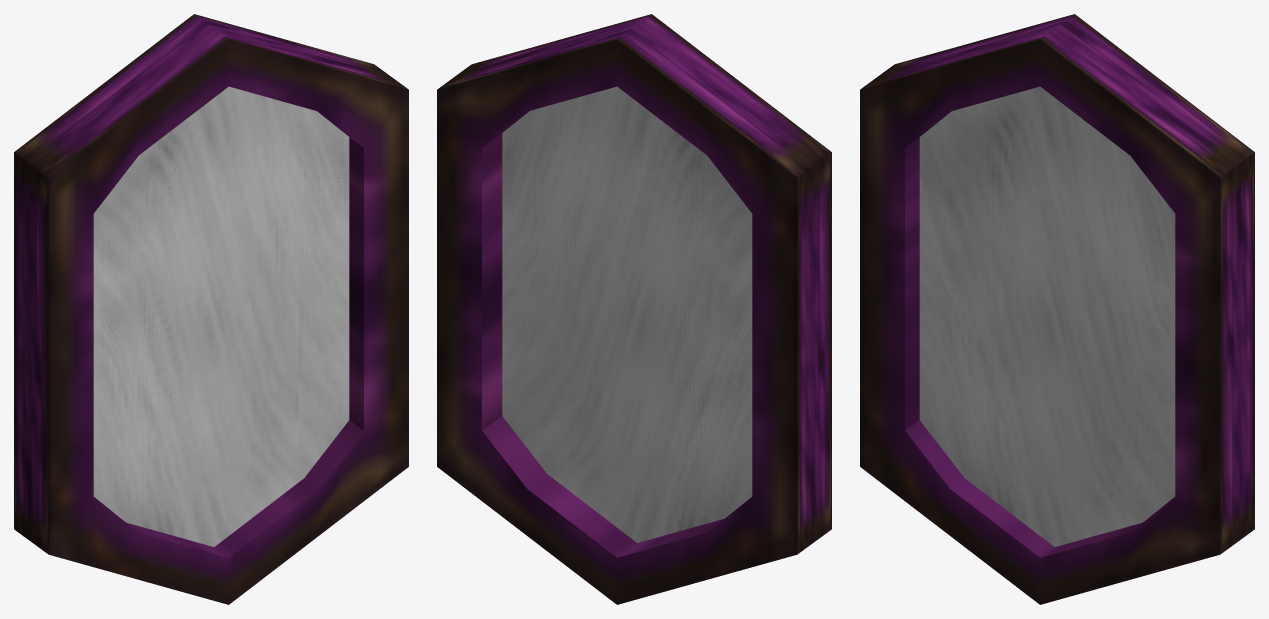
Rendered from mirrorinv.obj.
3 renders of one model, left to right at view 1: azimuth 30°, elevation 25°; view 2: azimuth 150°, elevation 25°; view 3: azimuth 330°, elevation 25°, orthographic.
Visible parts, largest first — view 1: pPlane1, pCube2; view 2: pCube2, pPlane1; view 3: pPlane1, pCube2.
Part boxes in pixels (x1=…): pPlane1: x1=93, y1=86, x2=349, y2=546; pCube2: x1=14, y1=14, x2=408, y2=604; pCube2: x1=437, y1=14, x2=831, y2=604; pPlane1: x1=502, y1=86, x2=752, y2=542; pPlane1: x1=919, y1=86, x2=1175, y2=546; pCube2: x1=860, y1=14, x2=1254, y2=604.
Size of the model in its own units: 0.6 by 0.9 by 0.1.
